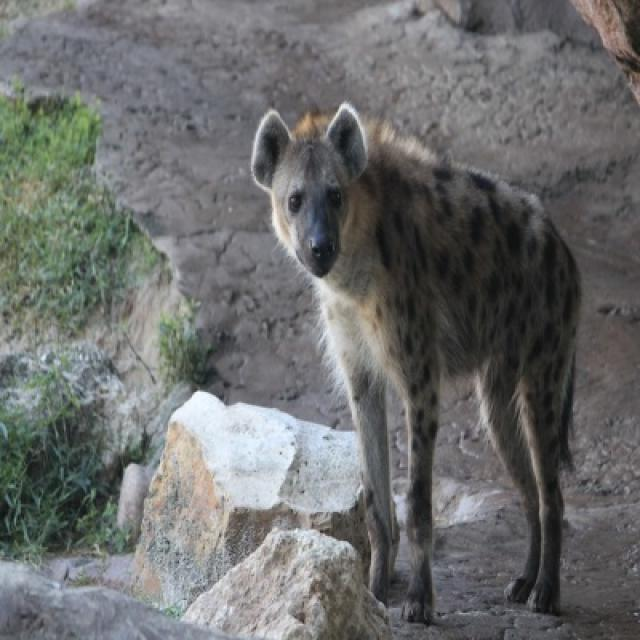hyena: (251, 102, 581, 622)
